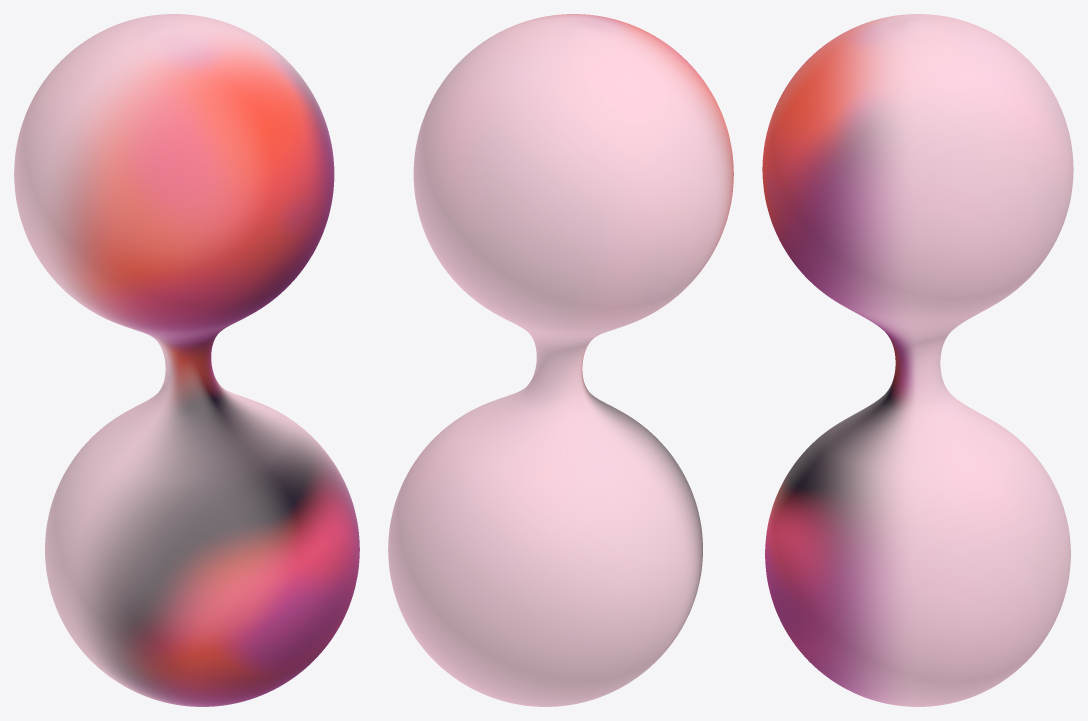
File: bone.glb
3 views of the same model, side by side, from view 1: azimuth 30°, elevation 25°; view 2: azimuth 150°, elevation 25°; view 3: azimuth 270°, elevation 25° (orthographic). The views are drawn at different scales.
Visible parts, largest first — view 1: bone; view 2: bone; view 3: bone.
Part boxes in pixels (bbox=[...]): bone: bbox=[14, 14, 359, 706]; bone: bbox=[388, 14, 733, 706]; bone: bbox=[762, 14, 1073, 706].
Bounding box in the file's own units: 2.62 × 5.55 × 2.4.
1 material, 1 textured.
